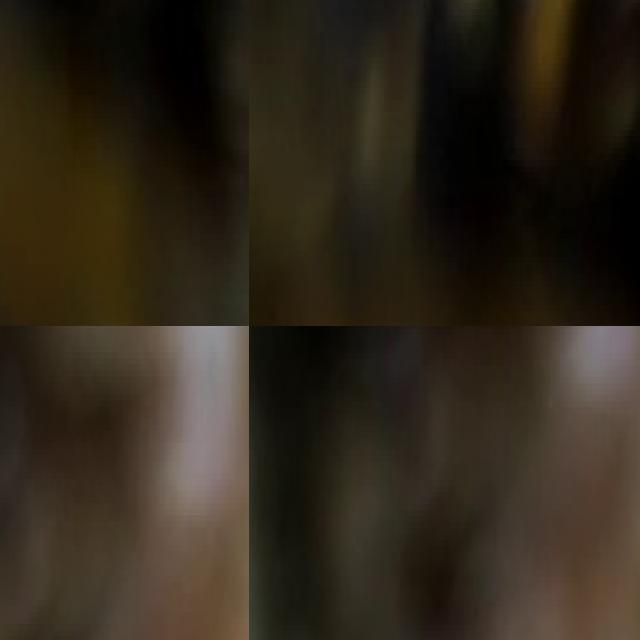fish: (249, 0, 640, 326), (0, 0, 249, 326)
